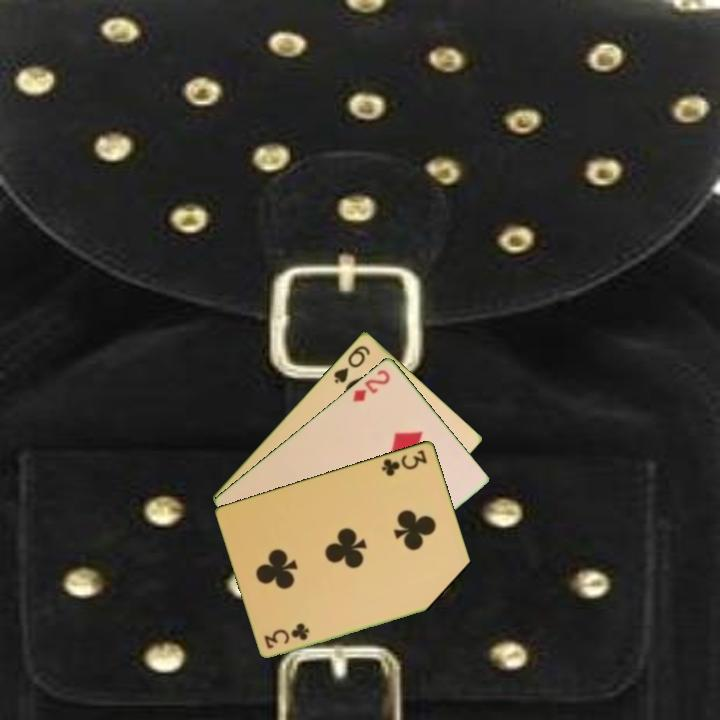2d: (349, 366, 393, 404)
3c: (378, 446, 430, 479), (261, 621, 312, 652)
6s: (330, 341, 373, 386)
